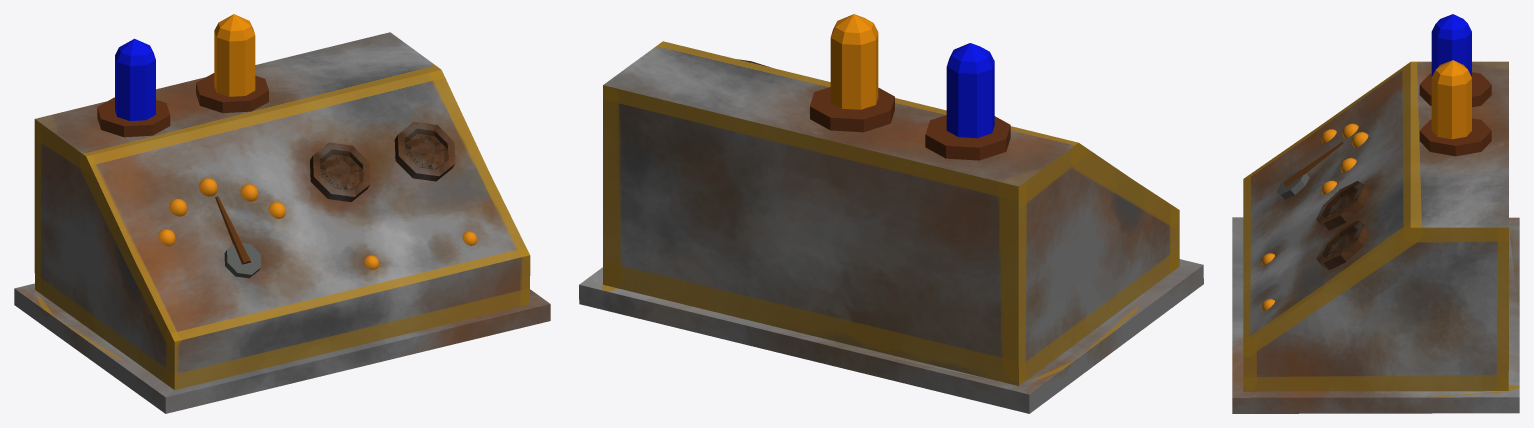
The model's file is Maschine3.fbx.
The picture shows the model from 3 angles, left to right: view 1: azimuth 30°, elevation 25°; view 2: azimuth 150°, elevation 25°; view 3: azimuth 270°, elevation 25°; orthographic projection. The views are drawn at different scales.
Visible parts, largest first — view 1: Cube, Cylinder.027, Cylinder.026, Cylinder.022, Cylinder.023, Cylinder.025, Cylinder.024, Cylinder.006, Cylinder.020; view 2: Cube, Cylinder.027, Cylinder.026, Cylinder.024, Cylinder.025; view 3: Cube, Cylinder.027, Cylinder.026, Cylinder.025, Cylinder.023, Cylinder.022, Cylinder.024, Cylinder.006, Cylinder.020.
Part boxes in pixels (left/top/right/bottom): Cube: left=14, top=32, right=550, bottom=413; Cylinder.027: left=214, top=14, right=255, bottom=96; Cylinder.026: left=115, top=38, right=155, bottom=120; Cylinder.022: left=310, top=142, right=370, bottom=201; Cylinder.023: left=394, top=122, right=455, bottom=181; Cylinder.025: left=196, top=73, right=268, bottom=112; Cylinder.024: left=97, top=97, right=170, bottom=137; Cylinder.006: left=224, top=243, right=260, bottom=278; Cylinder.020: left=215, top=196, right=250, bottom=264; Cube: left=579, top=41, right=1203, bottom=413; Cylinder.027: left=830, top=14, right=878, bottom=109; Cylinder.026: left=946, top=43, right=994, bottom=138; Cylinder.024: left=925, top=115, right=1010, bottom=160; Cylinder.025: left=810, top=87, right=894, bottom=132; Cube: left=1232, top=61, right=1519, bottom=413; Cylinder.027: left=1431, top=60, right=1471, bottom=139; Cylinder.026: left=1431, top=14, right=1471, bottom=76; Cylinder.025: left=1419, top=118, right=1491, bottom=156; Cylinder.023: left=1316, top=220, right=1370, bottom=270; Cylinder.022: left=1316, top=181, right=1370, bottom=230; Cylinder.024: left=1419, top=72, right=1491, bottom=107; Cylinder.006: left=1276, top=169, right=1309, bottom=199; Cylinder.020: left=1283, top=141, right=1343, bottom=187.
Size of the model in its own units: 869 by 584 by 586.
9 materials, 3 textured.
